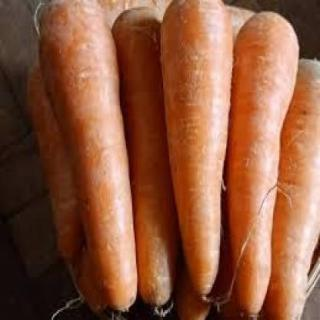Wortel: (36, 1, 141, 315), (225, 7, 303, 320), (159, 1, 238, 301)
